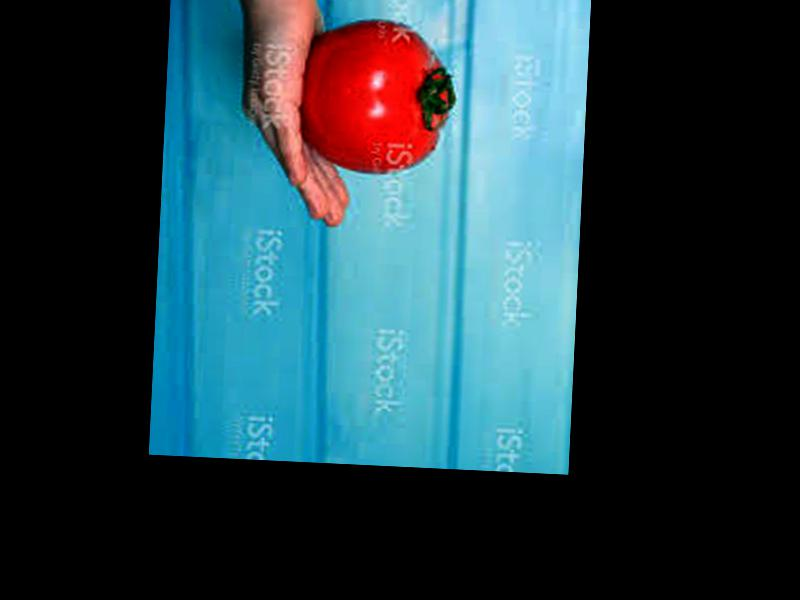Tomato: (297, 20, 456, 177)
